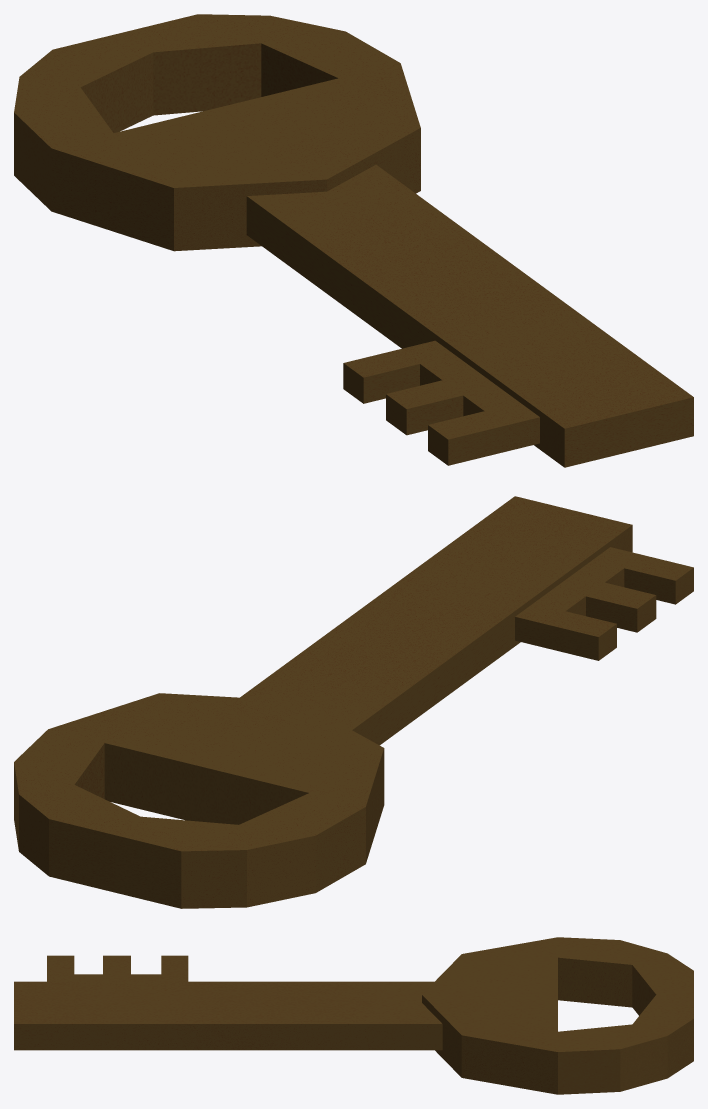
Rendered from Props_Key-Bronze.fbx.
3 renders of one model, top to bottom at view 1: azimuth 30°, elevation 25°; view 2: azimuth 150°, elevation 25°; view 3: azimuth 270°, elevation 25°, orthographic. The views are drawn at different scales.
Visible parts, largest first — view 1: Bronze_key; view 2: Bronze_key; view 3: Bronze_key.
Boxes of the visible parts, left/top/right/bottom form: Bronze_key: left=14, top=14, right=693, bottom=467; Bronze_key: left=14, top=496, right=693, bottom=908; Bronze_key: left=14, top=937, right=693, bottom=1094.
Bounding box in the file's own units: 3.2 × 0.5532 × 8.
1 material, 1 textured.
